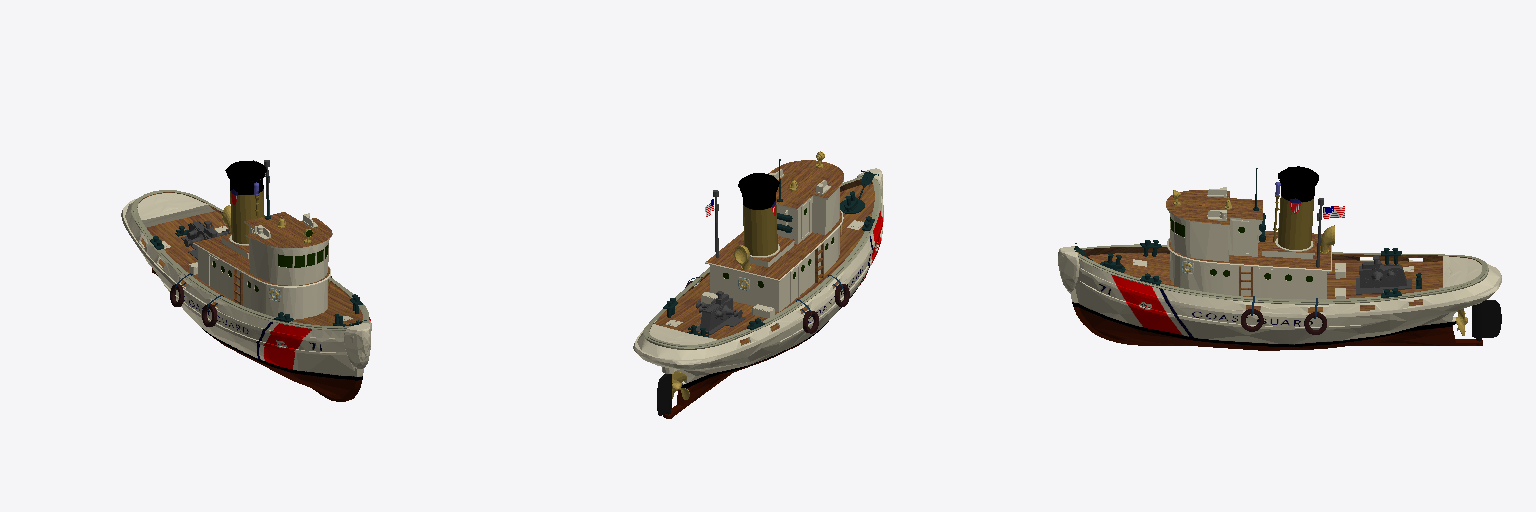
The picture shows the model from 3 angles: view 1: azimuth 30°, elevation 25°; view 2: azimuth 150°, elevation 25°; view 3: azimuth 270°, elevation 25°; orthographic projection.
Visible parts, largest first — view 1: CGTGband; view 2: CGTGband; view 3: CGTGband.
Part boxes in pixels (x1,y1,x2,y2): CGTGband: (121,160,371,401); CGTGband: (633,151,883,418); CGTGband: (1058,166,1501,350).
Bounding box in the file's own units: 7801 × 10208 × 23275.
Materials: 21 (6 with a texture image).